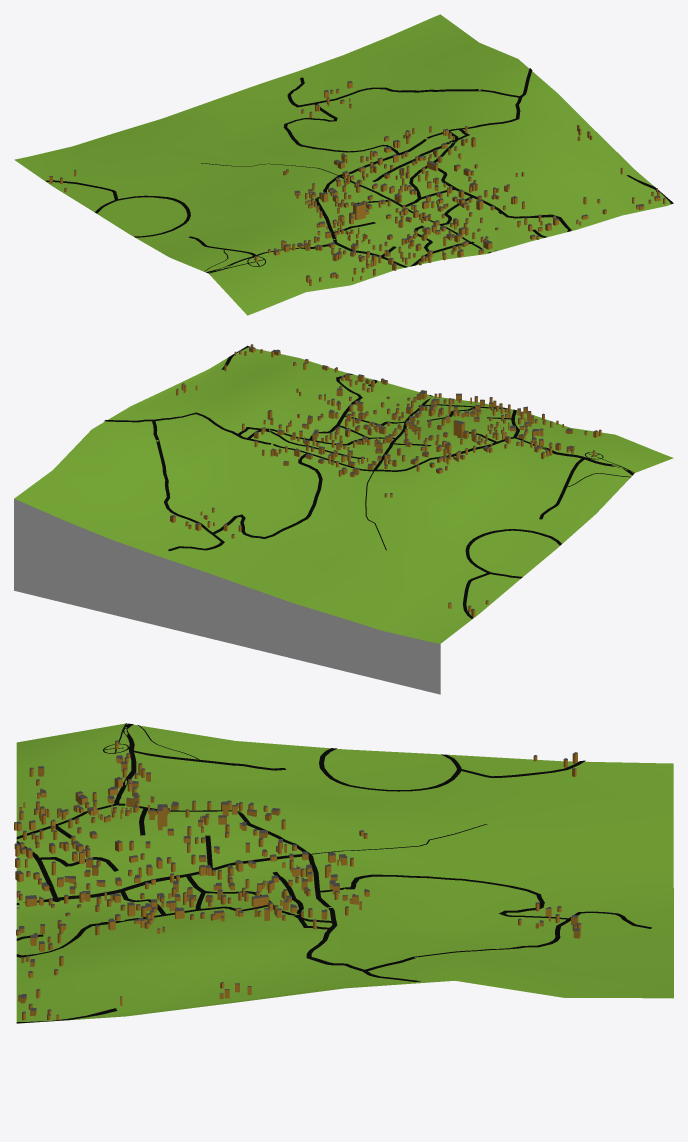
The model's file is tile_08_07.glb.
3 views of the same model, one above another, from view 1: azimuth 30°, elevation 25°; view 2: azimuth 150°, elevation 25°; view 3: azimuth 270°, elevation 25° (orthographic). The views are drawn at different scales.
Parts seen in each view (by area): view 1: Terrain_08_07, Ub_small.osm_buildings_08_07, Ub_small.osm_roads_residential_08_07; view 2: Terrain_08_07, Ub_small.osm_buildings_08_07, Ub_small.osm_roads_residential_08_07; view 3: Terrain_08_07, Ub_small.osm_buildings_08_07, Ub_small.osm_roads_residential_08_07.
Boxes of the visible parts, x1=… form: Terrain_08_07: x1=14, y1=14, x2=670, y2=315; Ub_small.osm_buildings_08_07: x1=49, y1=81, x2=665, y2=285; Ub_small.osm_roads_residential_08_07: x1=46, y1=68, x2=673, y2=272; Terrain_08_07: x1=14, y1=347, x2=673, y2=694; Ub_small.osm_buildings_08_07: x1=170, y1=344, x2=601, y2=616; Ub_small.osm_roads_residential_08_07: x1=104, y1=345, x2=633, y2=618; Terrain_08_07: x1=16, y1=723, x2=673, y2=1023; Ub_small.osm_buildings_08_07: x1=14, y1=740, x2=581, y2=1020; Ub_small.osm_roads_residential_08_07: x1=16, y1=723, x2=651, y2=1023.
Bounding box in the file's own units: 978 × 229 × 932.
